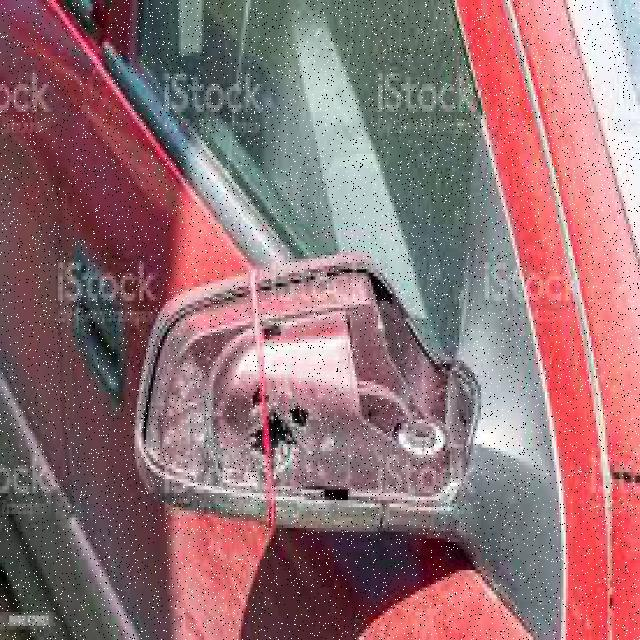Sidemirror-Damage: (125, 234, 508, 562)
